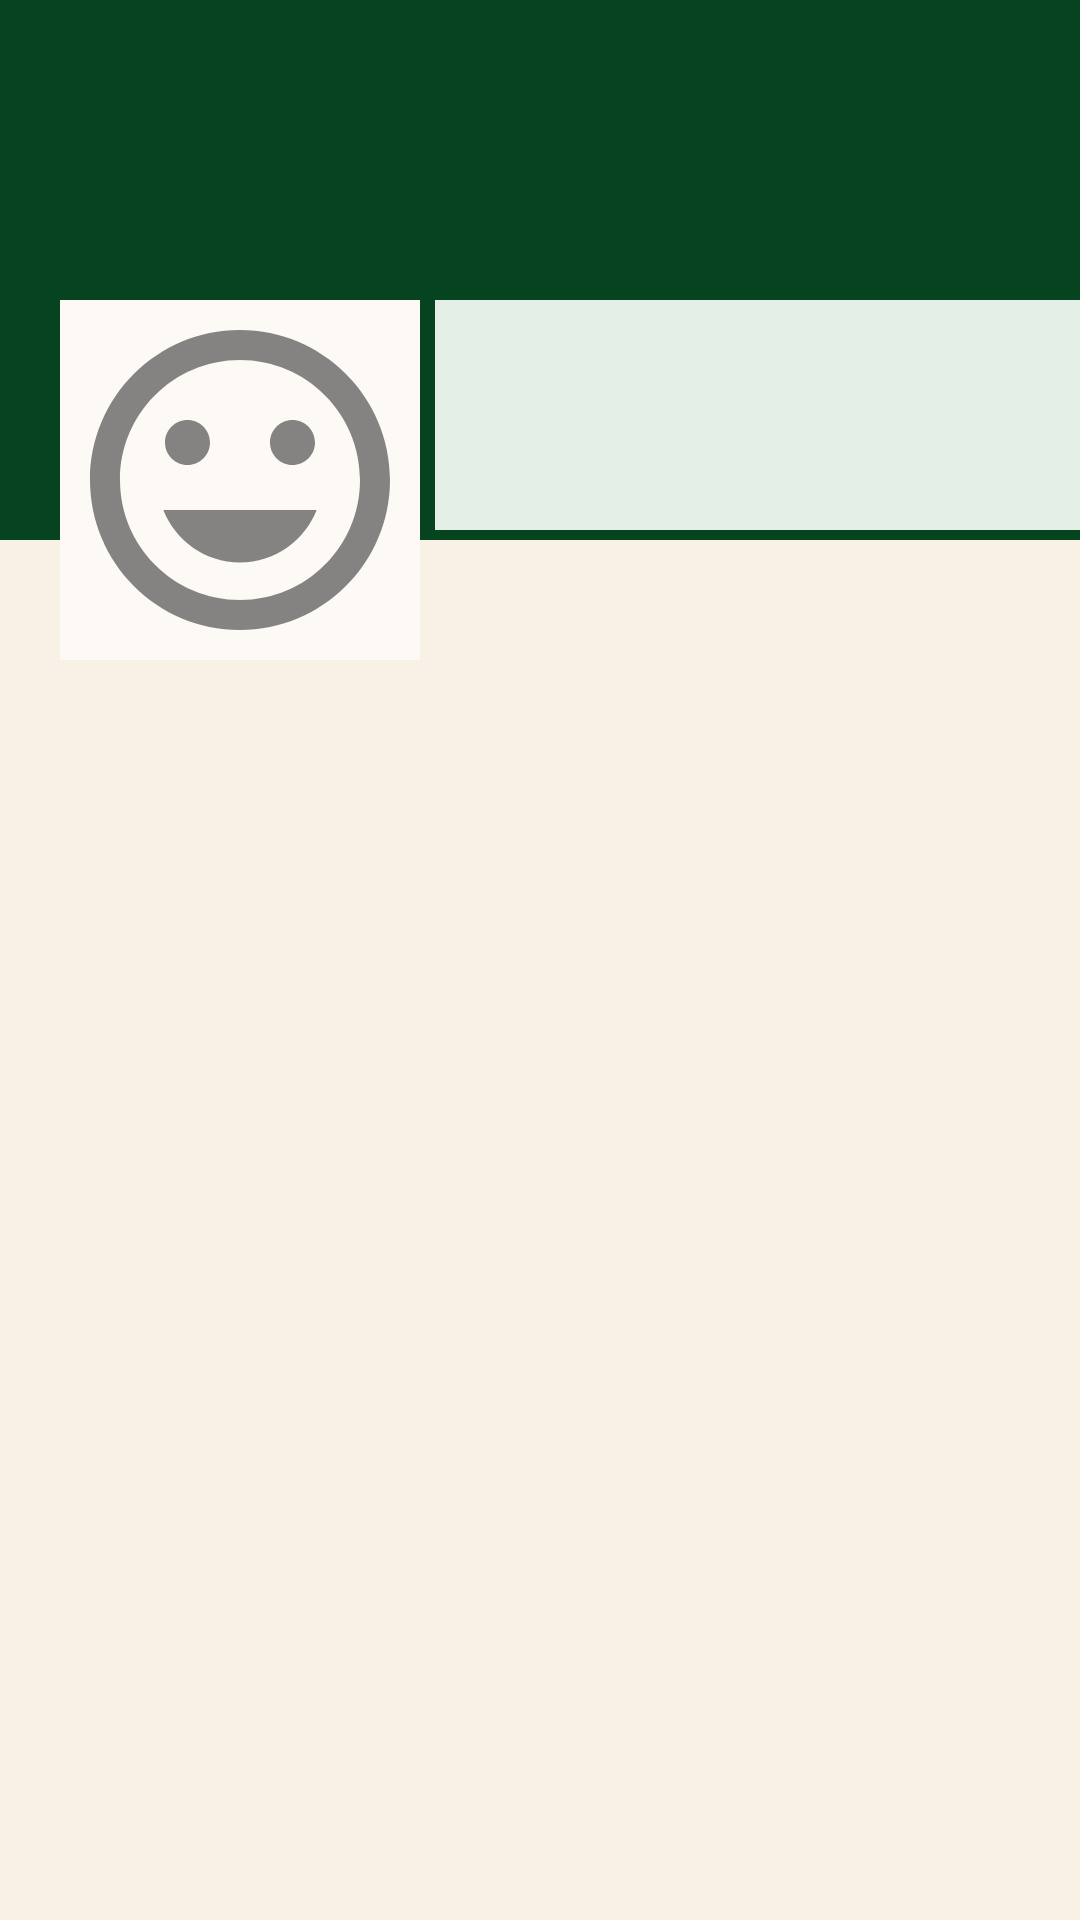

Icons on this 1080*1920 Android screen, each with the point to tap as [x,y]:
profile: [240,480]
